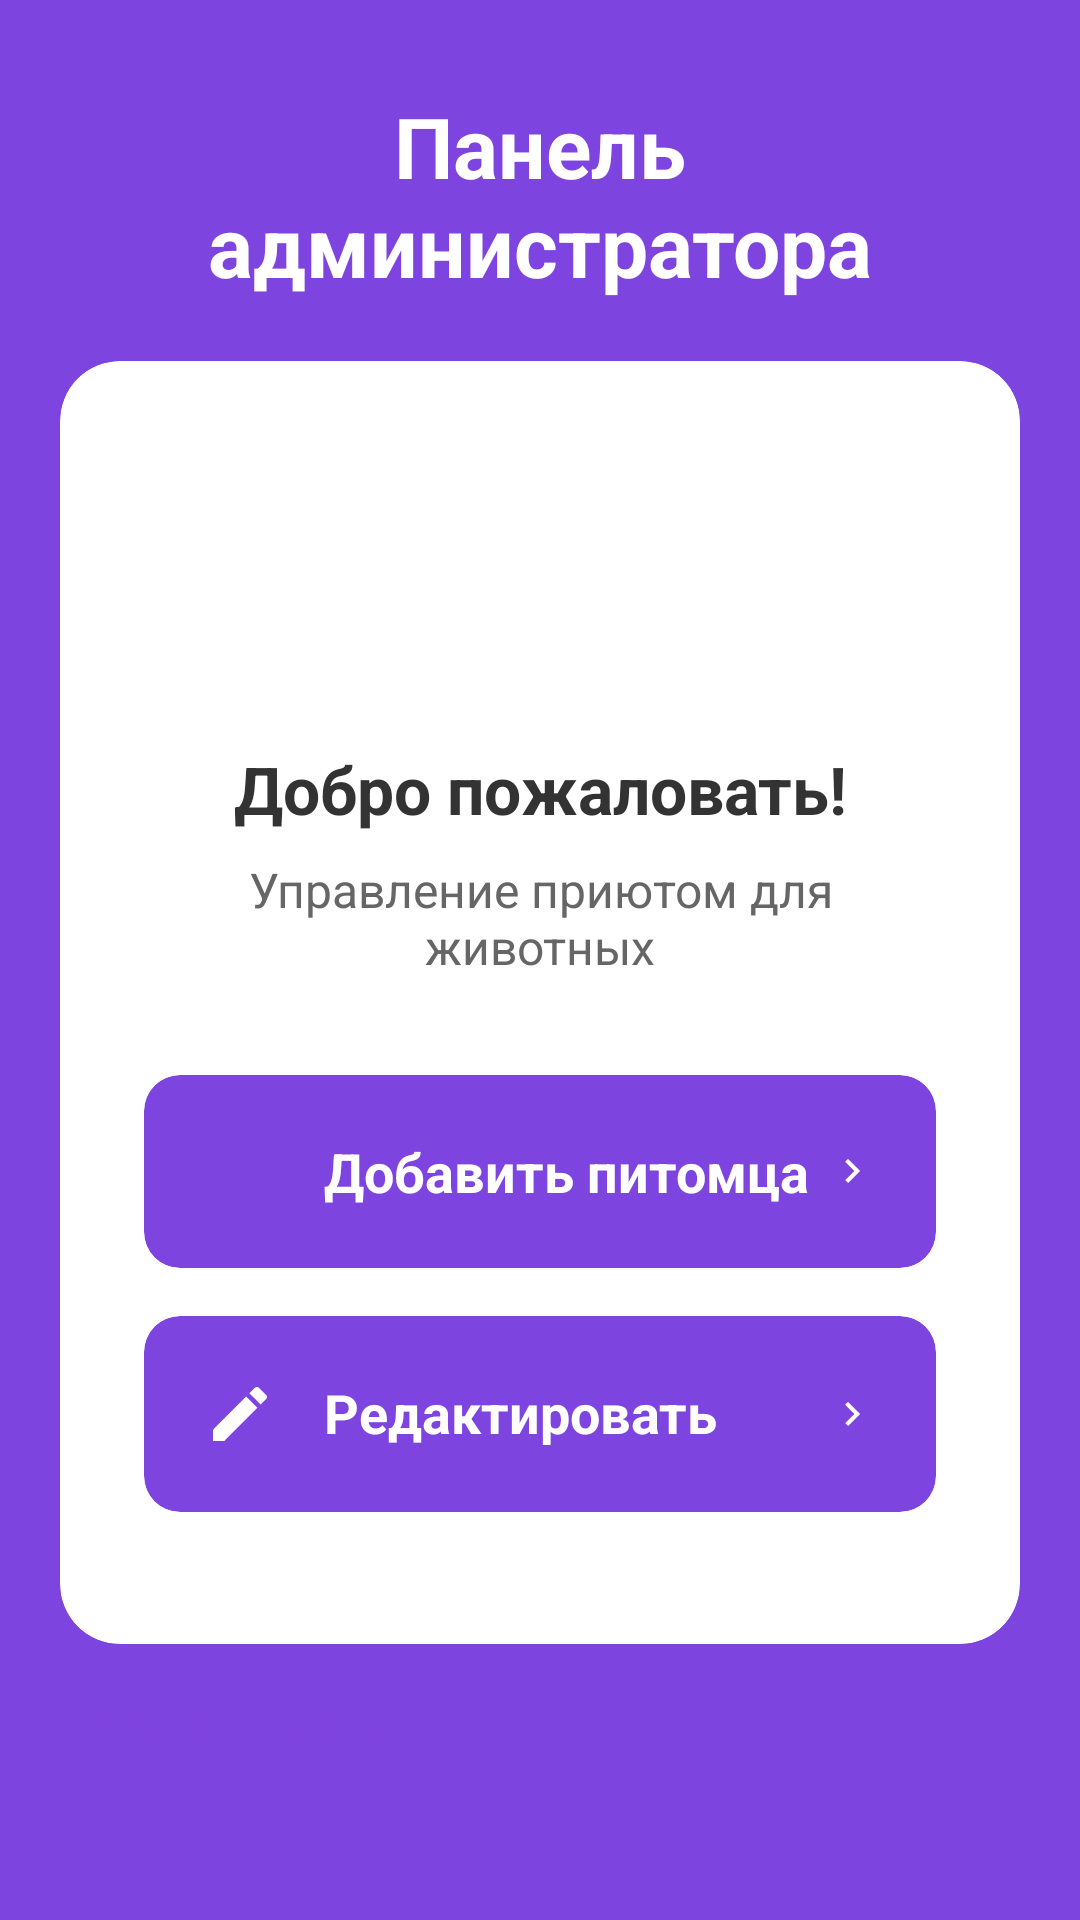

Screen size 1080 × 1920. Icon name, then its box in pixels as (x1, y1, x2, y2):
Стрелка: (845, 1159, 860, 1183), (845, 1402, 860, 1426)
